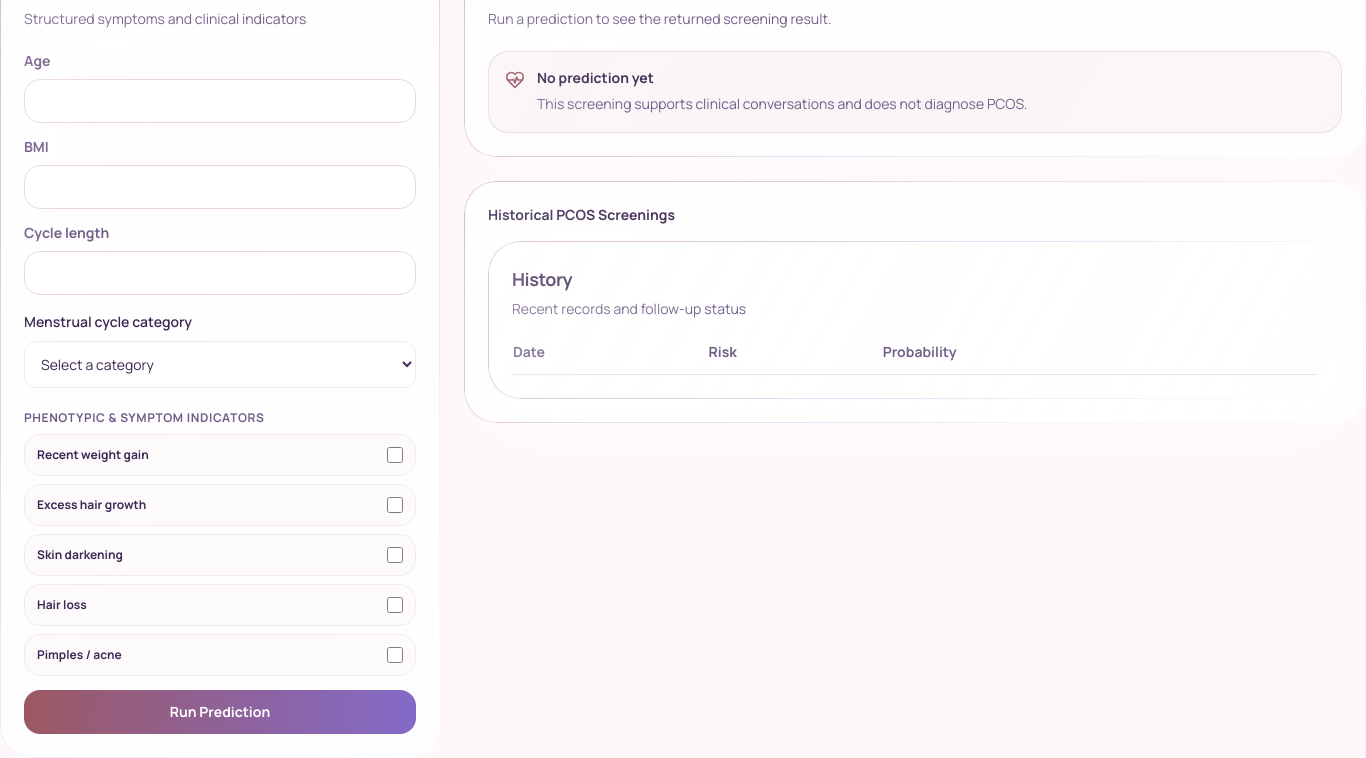
PCOSPage form › renders blank with a required cycle placeholder and blocks empty submit
(page scrolled)
Expected: the number field labelled "Age" is not empty, [24,79,416,123]
Expected: the number field labelled "BMI" is not empty, [24,165,416,209]
Step 1. Click the button "Run Prediction" → (220, 712), box [24,690,416,734]
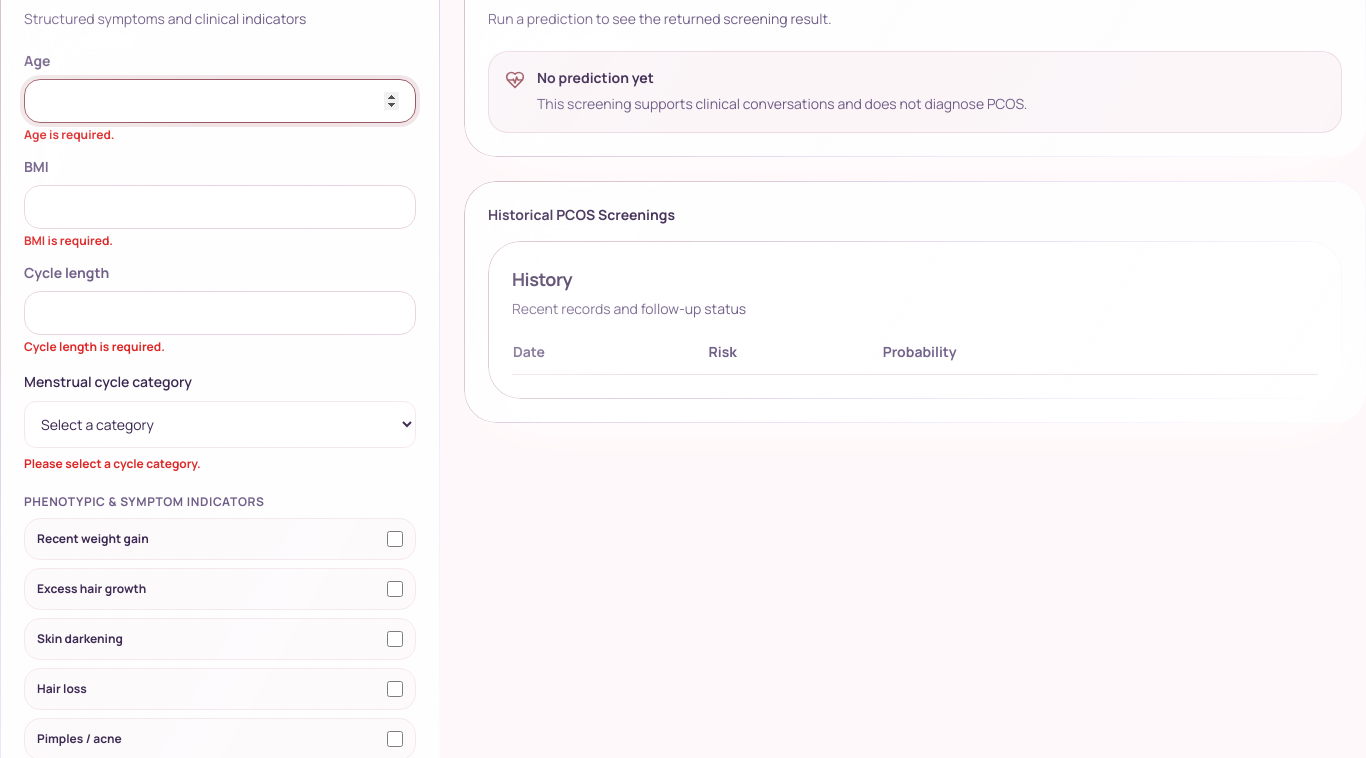
Result: the text "Age is required." is shown at [24,126,114,143]
Result: the text "BMI is required." is shown at [24,232,113,249]
Result: the text "Cycle length is required." is shown at [24,338,165,355]
